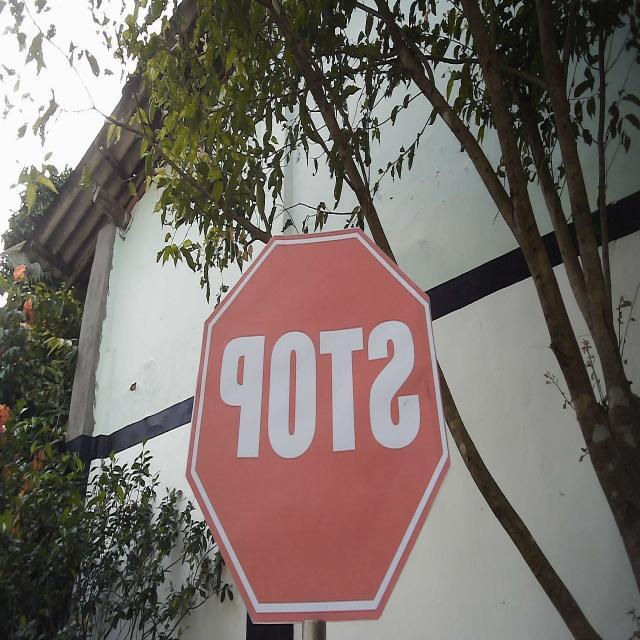stop: (183, 222, 453, 627)
